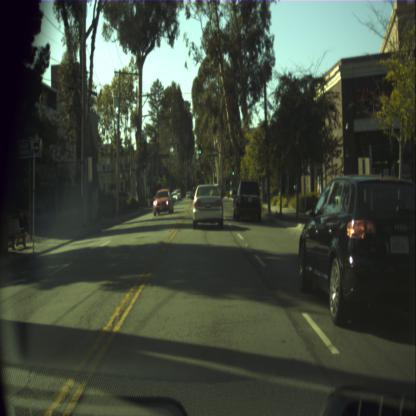Green: (198, 144, 201, 156), (232, 164, 234, 175), (160, 173, 162, 181)
Yellow: (202, 167, 204, 176)
